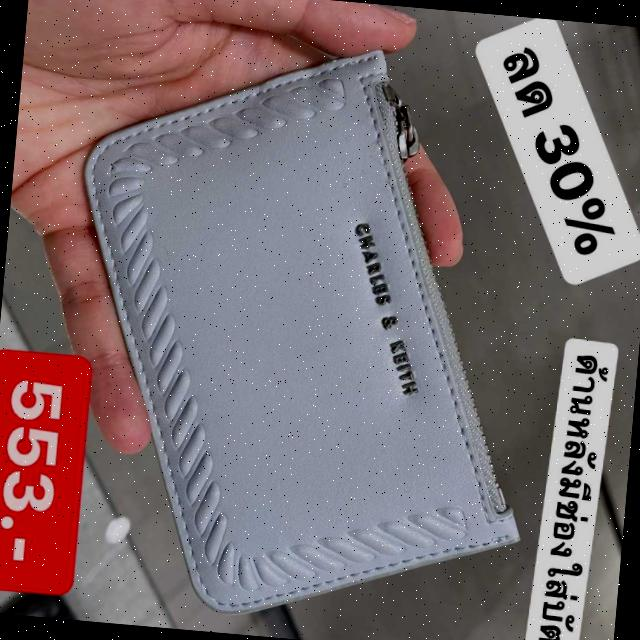Handbag: (23, 0, 590, 640)
